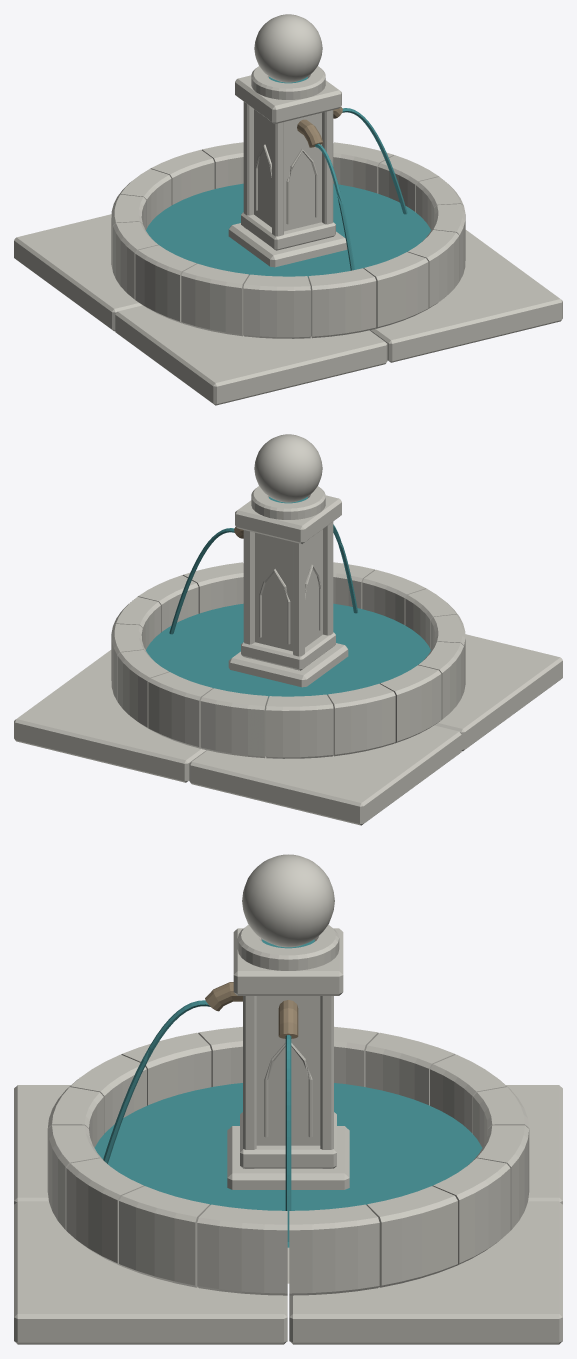
3 views of the same model, one above another, from view 1: azimuth 30°, elevation 25°; view 2: azimuth 150°, elevation 25°; view 3: azimuth 270°, elevation 25° (orthographic). The views are drawn at different scales.
Parts seen in each view (by area): view 1: limestone, water, bronze; view 2: limestone, water; view 3: limestone, water, bronze.
Boxes of the visible parts, box(x1,y1,x2,y2) form: limestone: box(14, 14, 562, 405); water: box(146, 77, 430, 277); bronze: box(297, 107, 342, 147); limestone: box(14, 434, 562, 825); water: box(146, 497, 430, 697); limestone: box(14, 854, 562, 1344); water: box(94, 939, 482, 1247); bronze: box(205, 982, 298, 1038).
Size of the model in its own units: 5.2 by 3.88 by 5.2.
